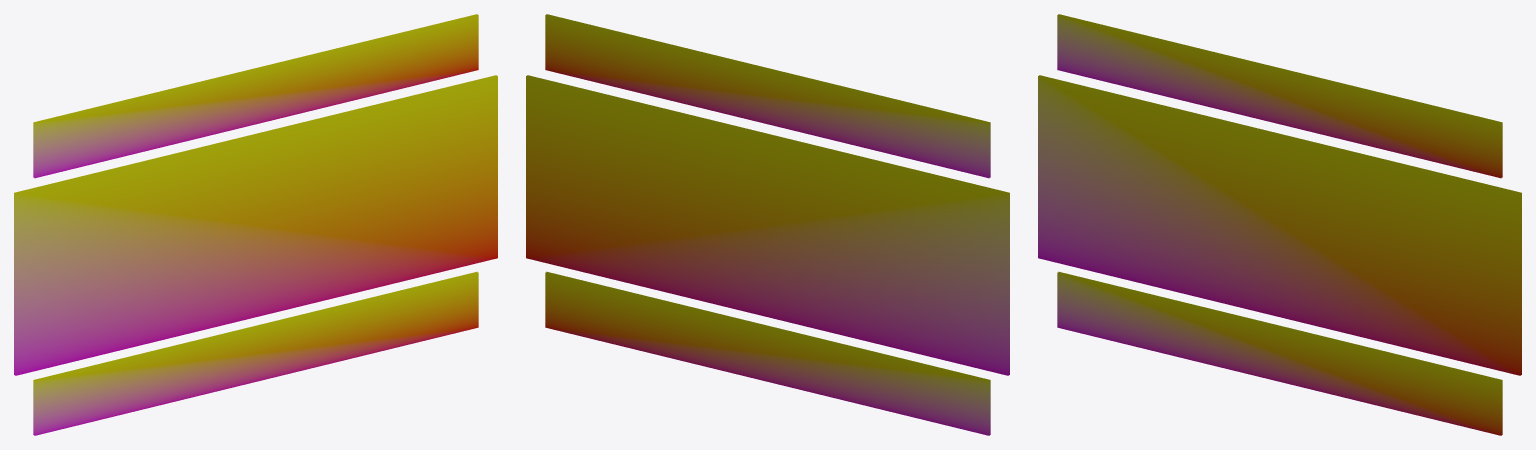
The picture shows the model from 3 angles, left to right: view 1: azimuth 30°, elevation 25°; view 2: azimuth 150°, elevation 25°; view 3: azimuth 330°, elevation 25°; orthographic projection.
Parts seen in each view (by area): view 1: G:\FFXIV-MapTools\exports\x6t1\bg\ex5\01_xkt_x6\twn\x6t1\bgp (×4); view 2: G:\FFXIV-MapTools\exports\x6t1\bg\ex5\01_xkt_x6\twn\x6t1\bgp (×4); view 3: G:\FFXIV-MapTools\exports\x6t1\bg\ex5\01_xkt_x6\twn\x6t1\bgp (×4).
Boxes of the visible parts, left/top/right/bottom form: G:\FFXIV-MapTools\exports\x6t1\bg\ex5\01_xkt_x6\twn\x6t1\bgp (×4): left=14, top=14, right=497, bottom=435; G:\FFXIV-MapTools\exports\x6t1\bg\ex5\01_xkt_x6\twn\x6t1\bgp (×4): left=526, top=14, right=1009, bottom=435; G:\FFXIV-MapTools\exports\x6t1\bg\ex5\01_xkt_x6\twn\x6t1\bgp (×4): left=1038, top=14, right=1521, bottom=435.
Size of the model in its own units: 5 by 3.1 by 0.02.
